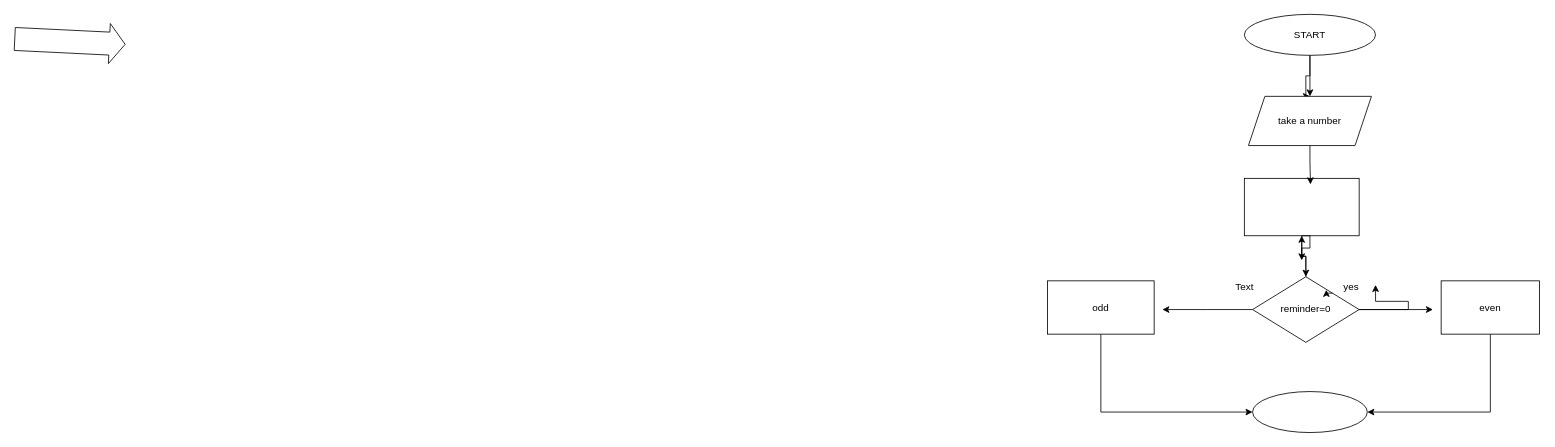
Image size: 1555x447. Some labels were removed from this diagram. The shapes that lost their labels are listed below. From the top down, each one's centre as x and y in pixels, then its label:
At (1301,207): "number%2".
At (1309,412): "STOP".
